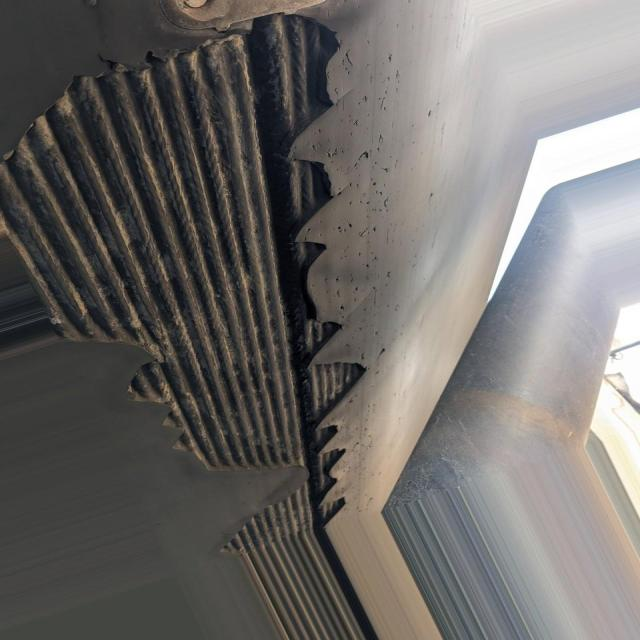Tear: (0, 10, 393, 640)
